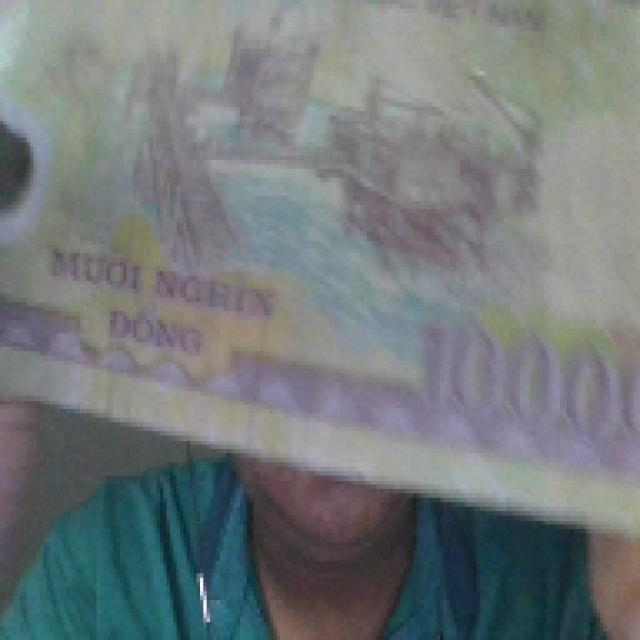10 000 VND: (0, 0, 637, 551)
